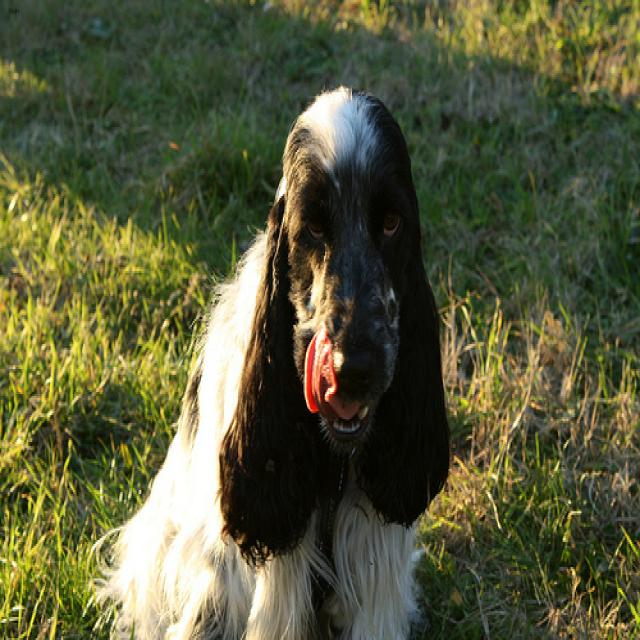dog-english_cocker_spaniel: (77, 75, 458, 636)
